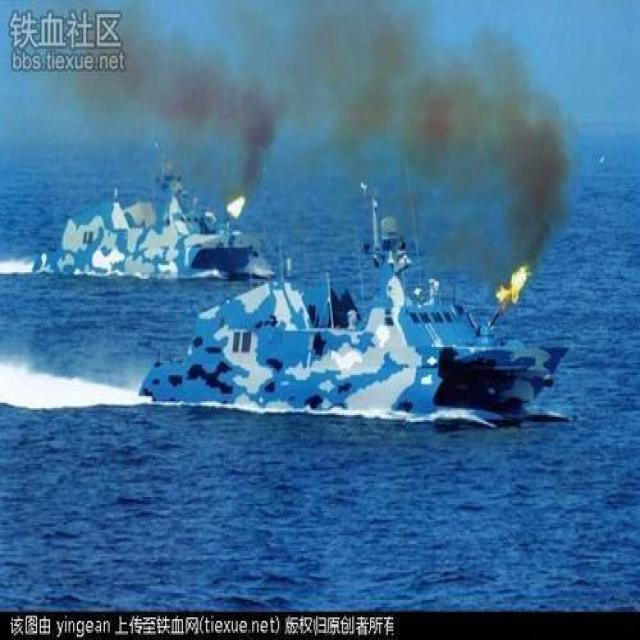fire: (485, 243, 545, 323), (218, 175, 254, 229)
